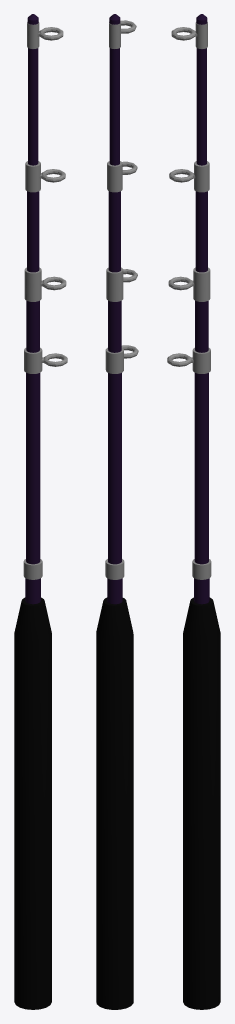
Rendered from fishing_rod (1).fbx.
3 renders of one model, left to right at view 1: azimuth 90°, elevation 25°; view 2: azimuth 150°, elevation 25°; view 3: azimuth 270°, elevation 25°, orthographic.
Parts seen in each view (by area): view 1: Rod; view 2: Rod; view 3: Rod.
Part boxes in pixels (box(x1,y1,x2,y2)): Rod: box(14, 14, 67, 1009); Rod: box(96, 14, 138, 1009); Rod: box(167, 14, 220, 1009).
Bounding box in the file's own units: 9.2 × 267 × 13.04.
